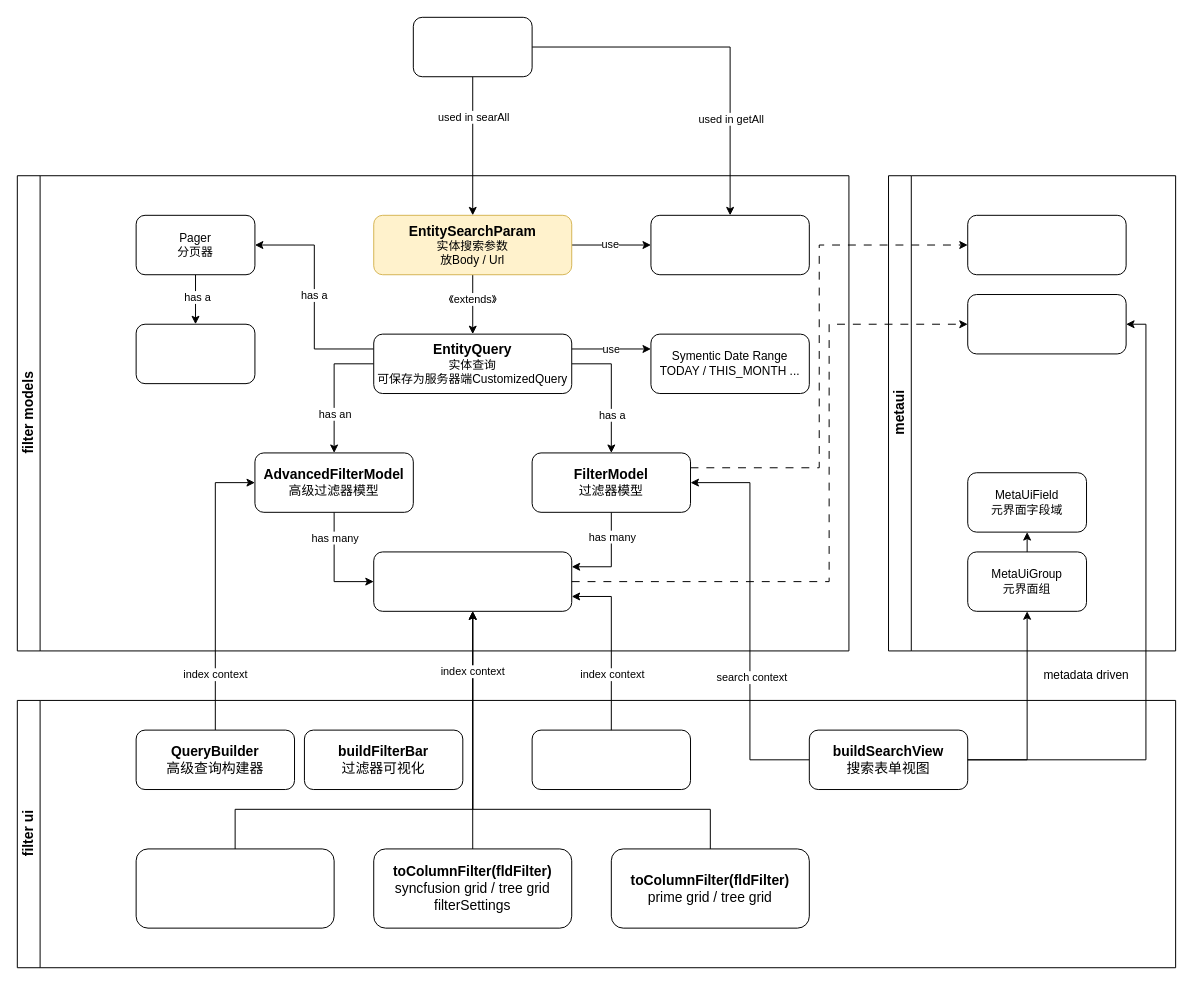
Some shapes in this 1193 by 985 pixel diagram are drawn without their labels. The box of each missing label's shape, as (x1, y1, x2, y2) in pixels:
ApiClient: (412, 16, 532, 77)
buildFilterChips 快速过滤器芯片: (531, 729, 691, 790)
EntityQueryParam 实体查询参数 放URL: (650, 214, 809, 275)
FieldFilter bool / text / date / number / ...: (373, 551, 572, 611)
MetaUiFilterOperator 定义过滤器算子: (967, 294, 1126, 354)
MetaUiFilterType 定义字段过滤器类型 text / number / date / ...: (967, 214, 1126, 275)
Sort 排序: (135, 323, 255, 384)
toColumnFilter(fldFilter) ag-grid: (135, 848, 334, 928)
